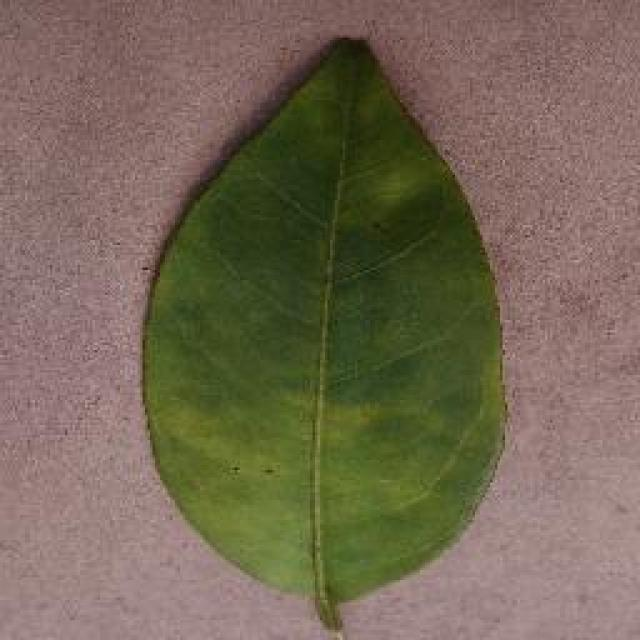Orange_Haunglongbing_Citrus_greening: (165, 105, 471, 556)
